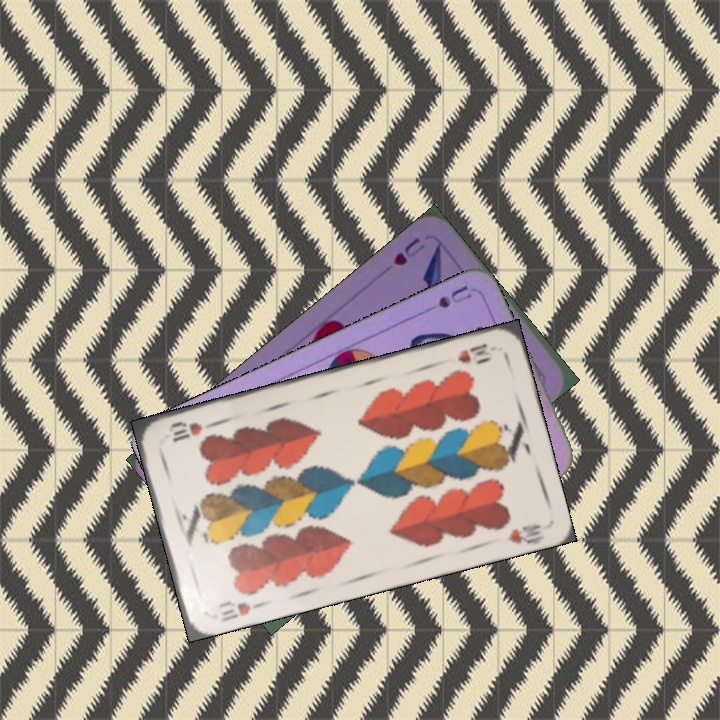H10: (214, 596, 266, 625), (454, 339, 496, 366)
HU: (389, 232, 428, 269)
SU: (434, 281, 475, 311)
